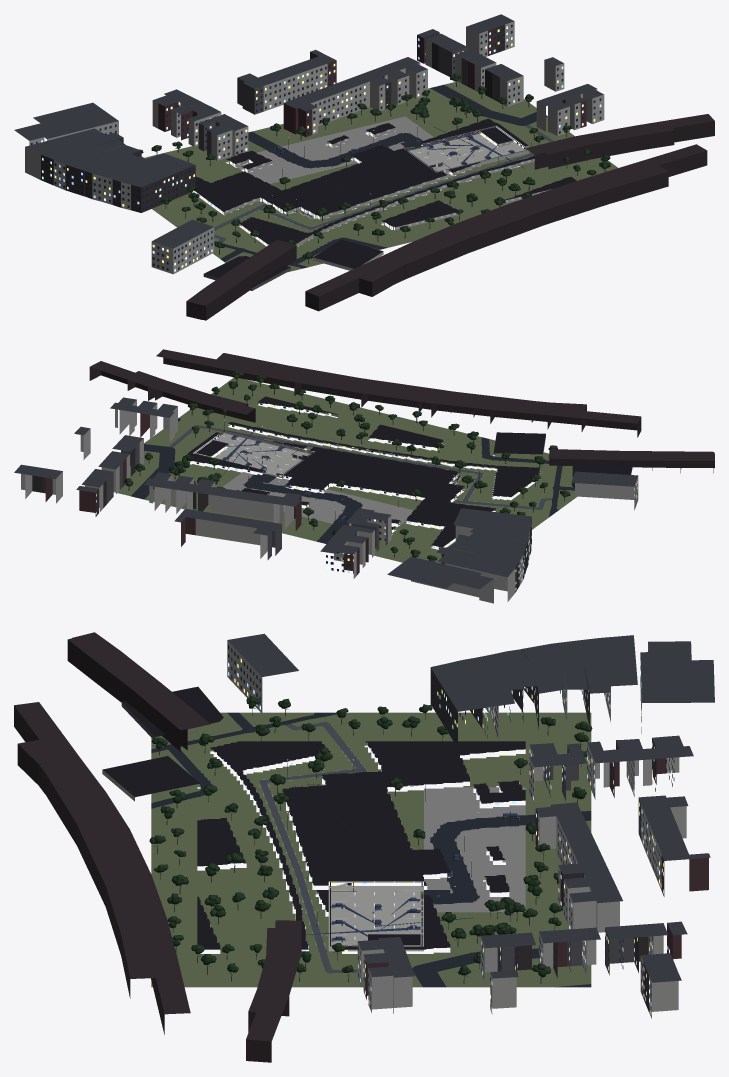
File: level.glb
The picture shows the model from 3 angles, top to bottom: view 1: azimuth 30°, elevation 25°; view 2: azimuth 150°, elevation 25°; view 3: azimuth 270°, elevation 25°; orthographic projection. The views are drawn at different scales.
Parts seen in each view (by area): view 1: static, blocks_caps, canopies, far_canopies, far_caps, far_windows; view 2: static, blocks_caps, far_canopies, canopies, far_caps; view 3: static, blocks_caps, canopies, far_canopies, far_caps, far_windows.
Part boxes in pixels (bbox=[...]): static: bbox=[14, 14, 714, 320]; blocks_caps: bbox=[194, 118, 576, 244]; canopies: bbox=[187, 97, 535, 244]; far_canopies: bbox=[139, 74, 610, 258]; far_caps: bbox=[204, 239, 382, 287]; far_windows: bbox=[41, 26, 601, 271]; static: bbox=[14, 349, 714, 603]; blocks_caps: bbox=[187, 396, 539, 547]; far_canopies: bbox=[124, 371, 574, 561]; canopies: bbox=[169, 401, 544, 534]; far_caps: bbox=[493, 432, 632, 477]; static: bbox=[14, 632, 714, 1062]; blocks_caps: bbox=[197, 741, 525, 949]; canopies: bbox=[198, 724, 540, 938]; far_canopies: bbox=[149, 696, 592, 977]; far_caps: bbox=[102, 686, 223, 797]; far_windows: bbox=[228, 658, 674, 1014].
Bounding box in the file's own units: 295 × 12.4 × 213.
